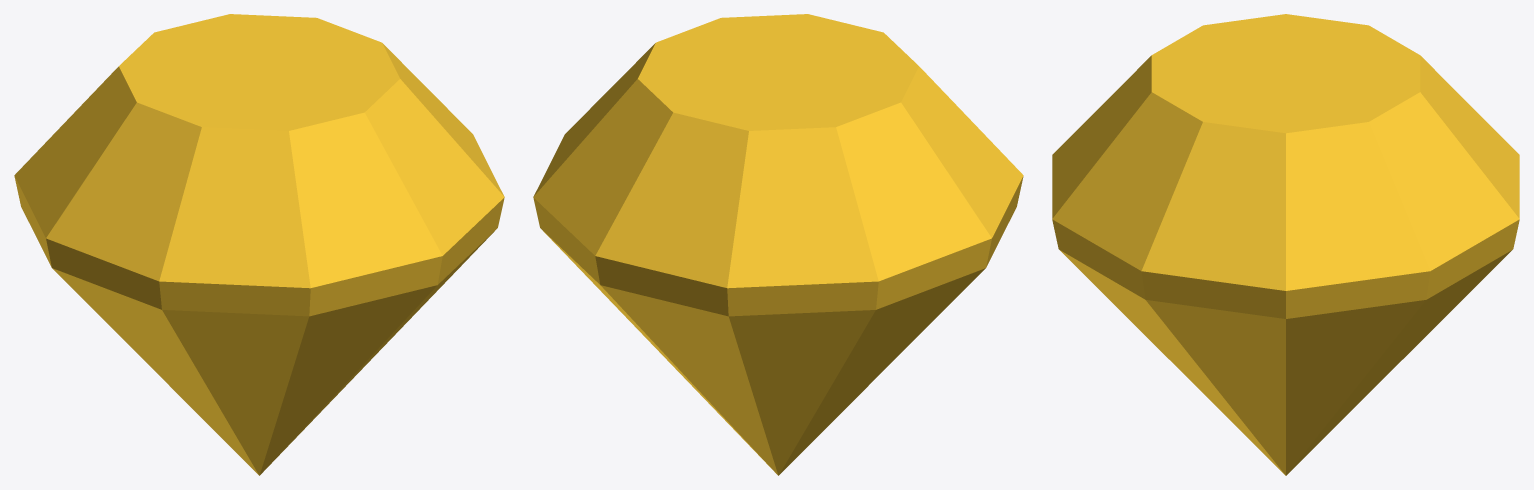
The model's file is Treasure.obj.
The picture shows the model from 3 angles, left to right: view 1: azimuth 30°, elevation 25°; view 2: azimuth 150°, elevation 25°; view 3: azimuth 270°, elevation 25°; orthographic projection.
Parts seen in each view (by area): view 1: Gold; view 2: Gold; view 3: Gold.
Part boxes in pixels (left/top/right/bottom): Gold: left=14, top=14, right=504, bottom=475; Gold: left=533, top=14, right=1023, bottom=475; Gold: left=1052, top=14, right=1519, bottom=475.
Size of the model in its own units: 2.16 by 1.95 by 2.05.
